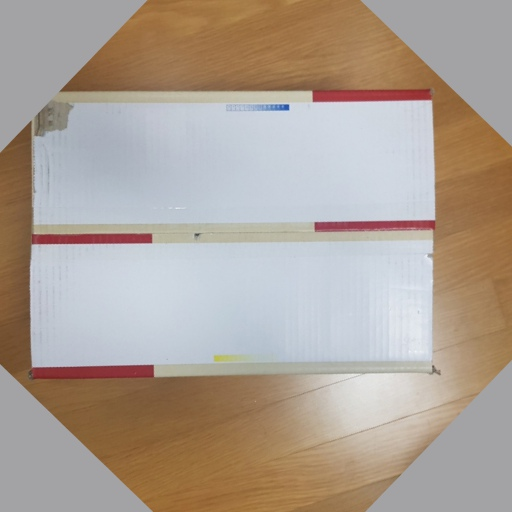Paper_0: (20, 85, 446, 388)
